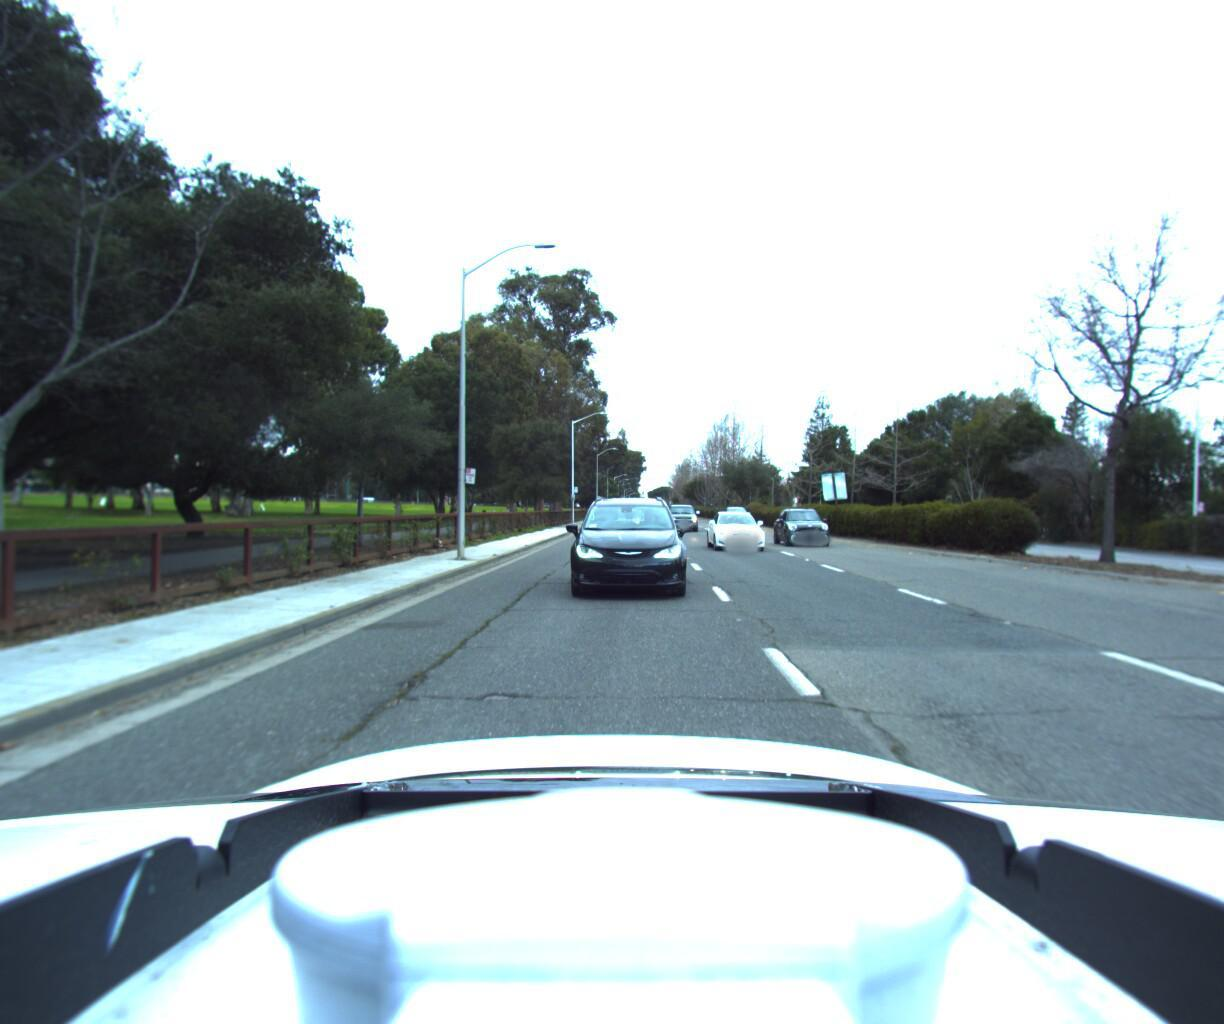car: (569, 496, 685, 603), (708, 509, 775, 555), (772, 505, 841, 546), (665, 501, 701, 531)
